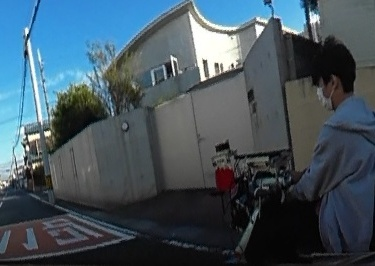person: (265, 29, 375, 260)
